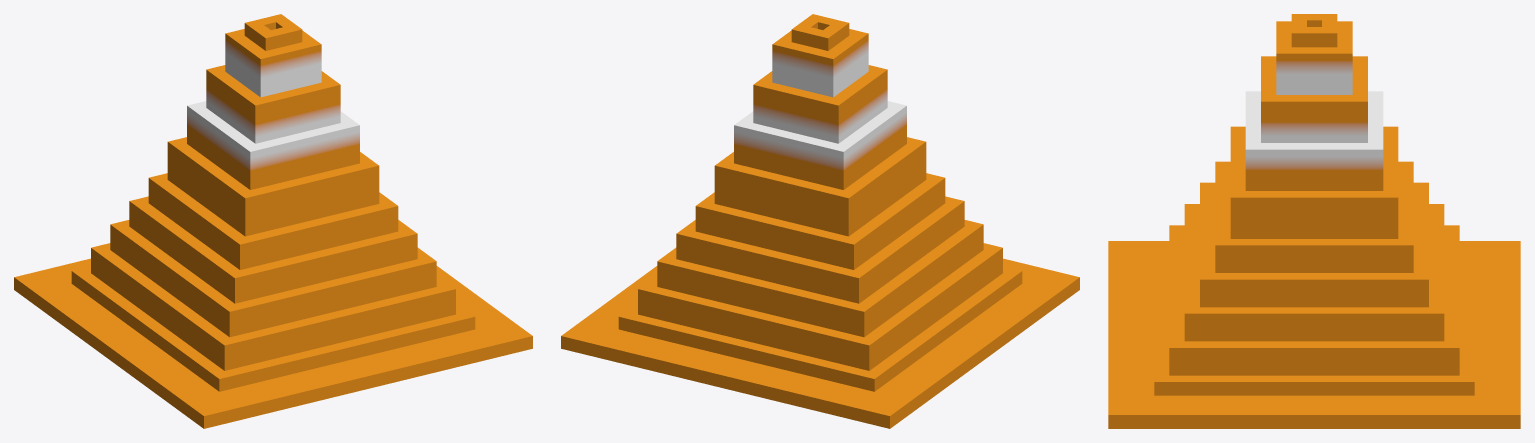
File: SafetyCone.dae
3 renders of one model, left to right at view 1: azimuth 30°, elevation 25°; view 2: azimuth 150°, elevation 25°; view 3: azimuth 270°, elevation 25°, orthographic. The views are drawn at different scales.
Parts seen in each view (by area): view 1: Matrix; view 2: Matrix; view 3: Matrix.
Boxes of the visible parts, x1,y1,x2,y2 form: Matrix: [14, 14, 532, 428]; Matrix: [561, 14, 1079, 428]; Matrix: [1108, 14, 1520, 428].
Bounding box in the file's own units: 27 × 23 × 27.
1 material, 1 textured.
